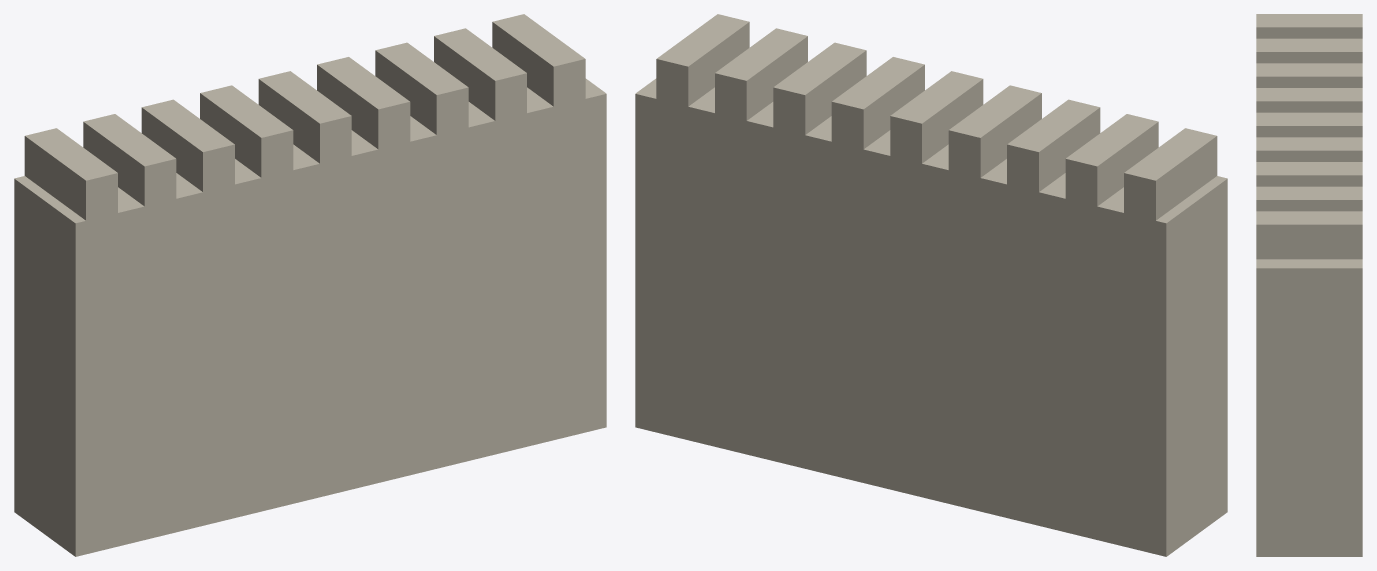
File: iz3_prison_yard_01.glb
3 views of the same model, side by side, from view 1: azimuth 30°, elevation 25°; view 2: azimuth 150°, elevation 25°; view 3: azimuth 270°, elevation 25° (orthographic). The views are drawn at different scales.
Visible parts, largest first — view 1: wall, merlon (×9); view 2: wall, merlon (×9); view 3: wall, merlon (×9).
Boxes of the visible parts, bbox=[...] form: wall: bbox=[14, 78, 606, 556]; merlon (×9): bbox=[24, 14, 585, 220]; wall: bbox=[635, 78, 1227, 556]; merlon (×9): bbox=[656, 14, 1217, 220]; wall: bbox=[1256, 259, 1362, 556]; merlon (×9): bbox=[1256, 14, 1362, 259].
Bounding box in the file's own units: 5 × 3.36 × 1.
